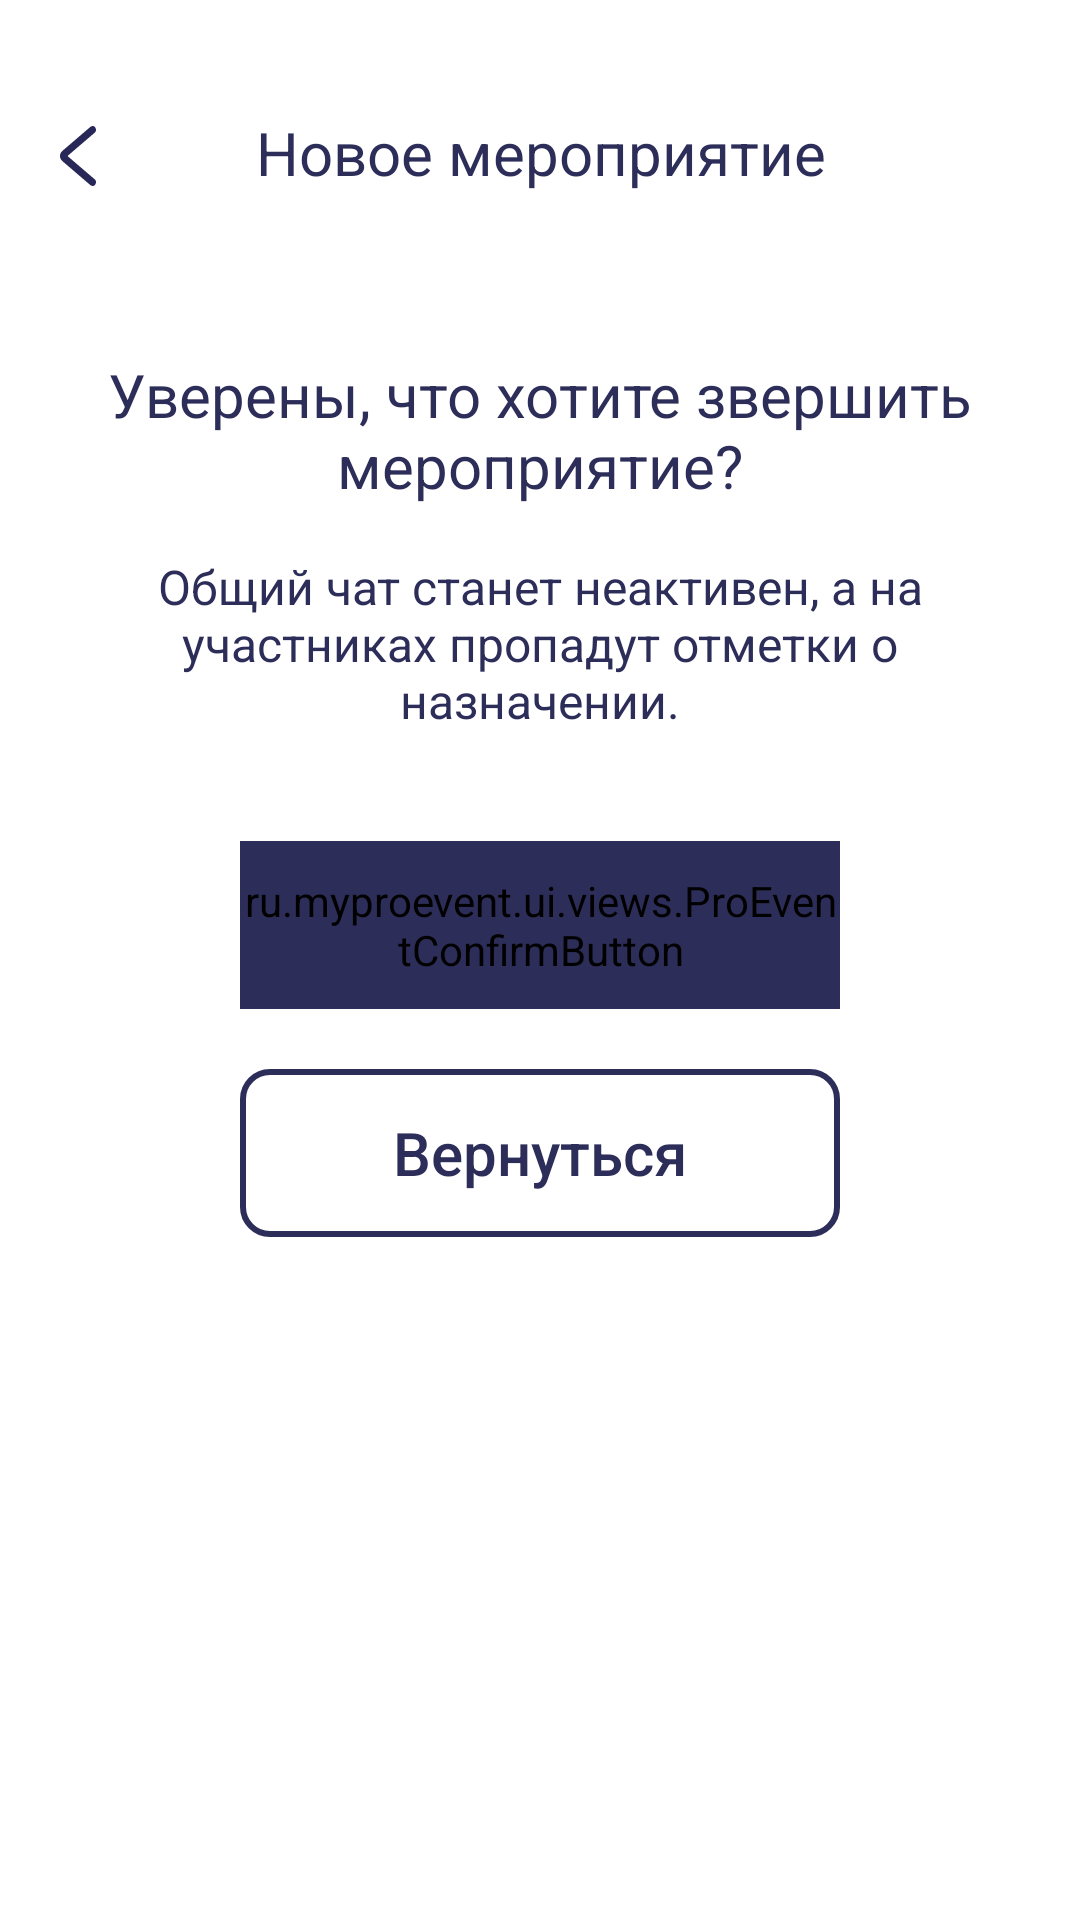

Screen size 1080px x 1920px. Icon name, then its box in pixels as (x1, y1, x2, y2):
back to: (60, 126, 96, 186)
